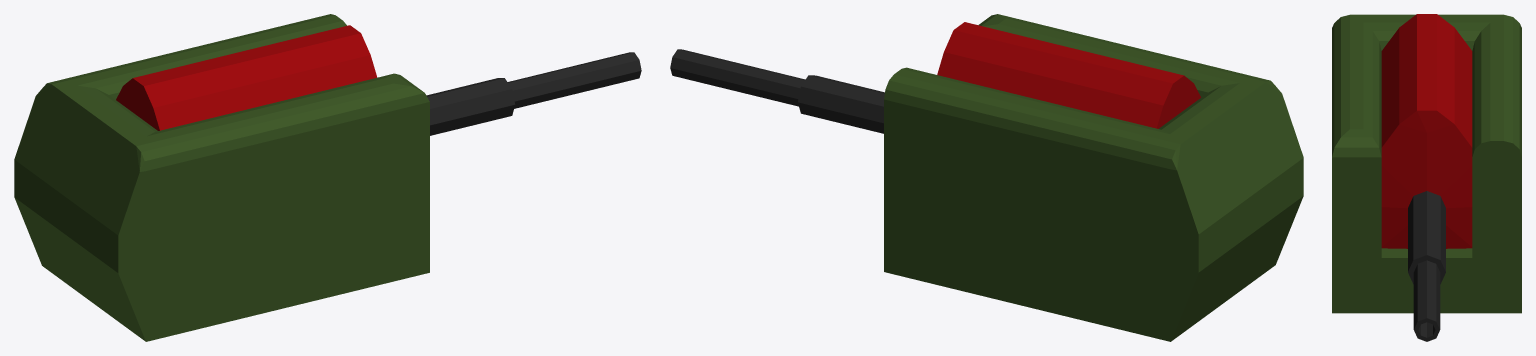
Rendered from gun.fbx.
3 renders of one model, left to right at view 1: azimuth 30°, elevation 25°; view 2: azimuth 150°, elevation 25°; view 3: azimuth 270°, elevation 25°, orthographic. The views are drawn at different scales.
Parts seen in each view (by area): view 1: Turetfej, lovo; view 2: Turetfej, lovo; view 3: Turetfej, lovo.
Boxes of the visible parts, box(x1,y1,x2,y2) form: Turetfej: box(14, 14, 429, 341); lovo: box(116, 25, 641, 135); Turetfej: box(884, 14, 1303, 341); lovo: box(670, 22, 1200, 133); Turetfej: box(1332, 14, 1521, 313); lovo: box(1381, 14, 1472, 341).
Size of the model in its own units: 132 by 46.74 by 41.78.
